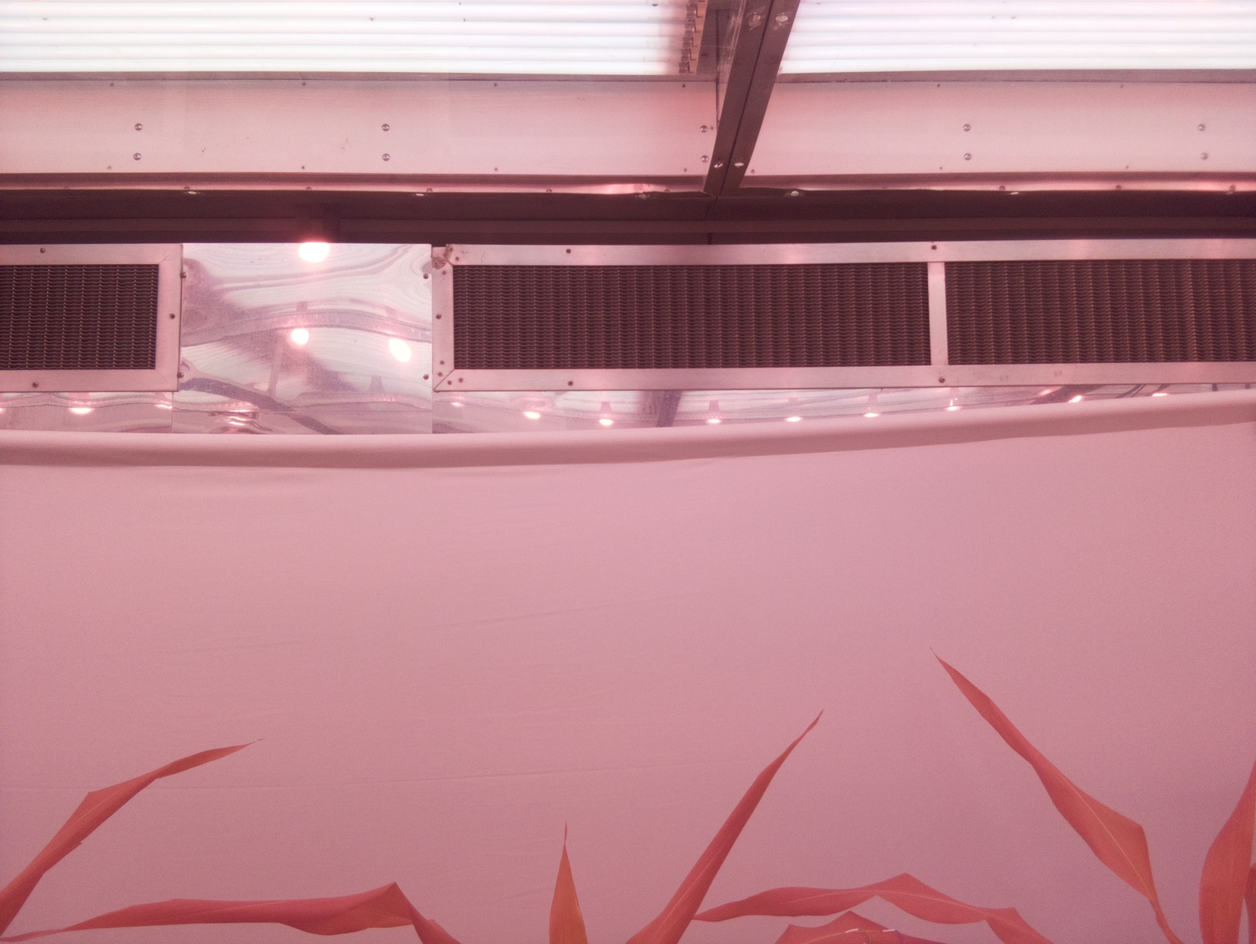maize: (547, 707, 1061, 944), (0, 736, 466, 944), (930, 647, 1256, 944)
